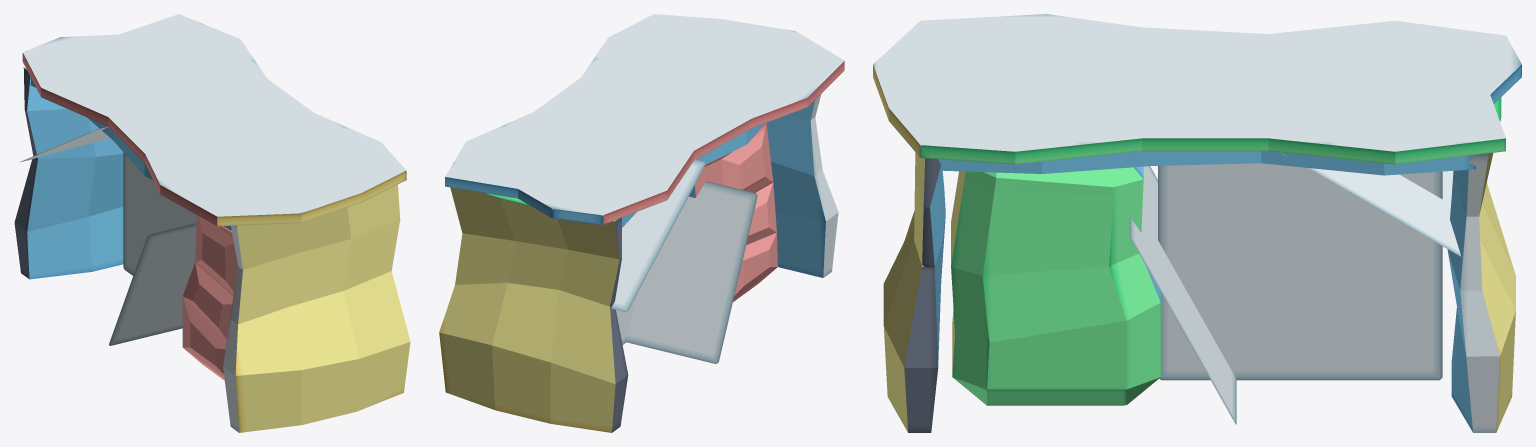
File: flesh-desk.fbx
The picture shows the model from 3 angles, left to right: view 1: azimuth 30°, elevation 25°; view 2: azimuth 150°, elevation 25°; view 3: azimuth 270°, elevation 25°; orthographic projection. The views are drawn at different scales.
Parts seen in each view (by area): view 1: Frame2, plane, beveled_cuboid, plane_2, plane_1; view 2: Frame2, plane, beveled_cuboid, plane_1, plane_2; view 3: Frame2, plane_2, beveled_cuboid, plane, plane_1.
Boxes of the visible parts, <box> form: Frame2: <box>14,14,410,432</box>; plane: <box>109,223,196,345</box>; beveled_cuboid: <box>182,215,238,380</box>; plane_2: <box>123,152,196,275</box>; plane_1: <box>20,126,110,162</box>; Frame2: <box>439,14,844,432</box>; plane: <box>626,181,757,363</box>; beveled_cuboid: <box>689,123,777,301</box>; plane_1: <box>495,159,705,311</box>; plane_2: <box>616,295,636,344</box>; Frame2: <box>873,14,1521,432</box>; plane_2: <box>1158,163,1442,380</box>; beveled_cuboid: <box>951,166,1160,405</box>; plane: <box>1129,166,1236,424</box>; plane_1: <box>1281,152,1461,256</box>.
Size of the model in its own units: 32.19 by 32.03 by 64.06.
Materials: 1 (1 with a texture image).
